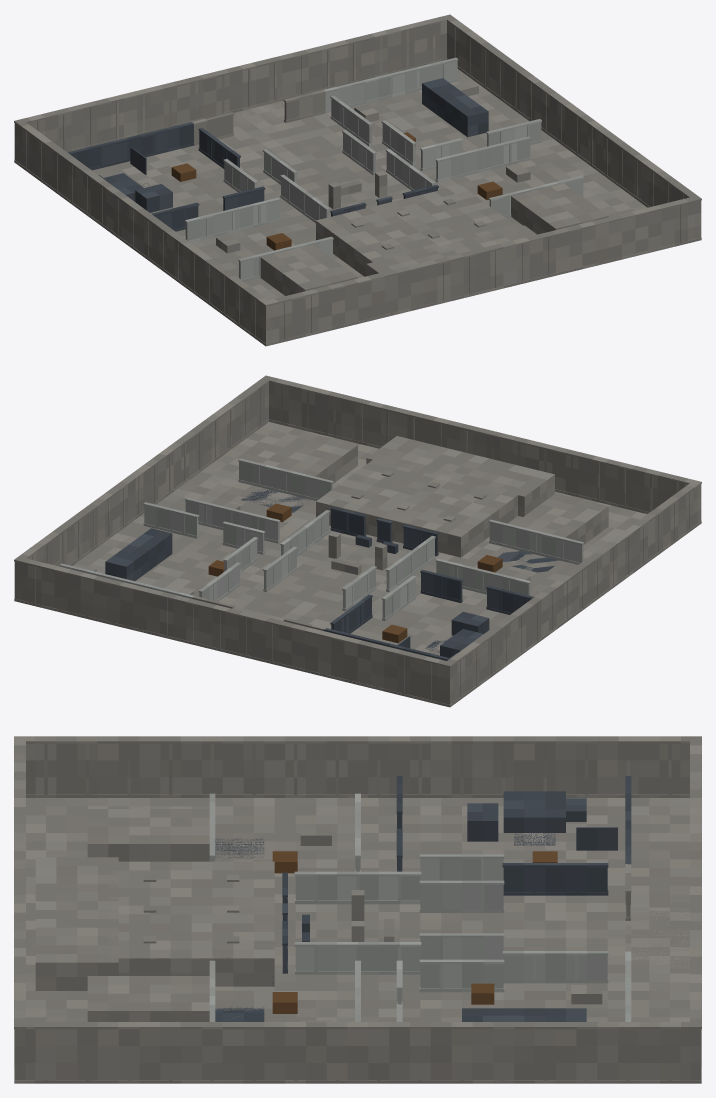
File: transit_shell.glb
3 renders of one model, top to bottom at view 1: azimuth 30°, elevation 25°; view 2: azimuth 150°, elevation 25°; view 3: azimuth 270°, elevation 25°, orthographic. The views are drawn at different scales.
Parts seen in each view (by area): view 1: transit_shell; view 2: transit_shell; view 3: transit_shell.
Part boxes in pixels (x1,y1,x2,y2): transit_shell: [14, 14, 701, 346]; transit_shell: [14, 375, 701, 707]; transit_shell: [14, 736, 701, 1083].
Size of the model in its own units: 66.16 by 6.12 by 66.16.
1 material, 1 textured.
